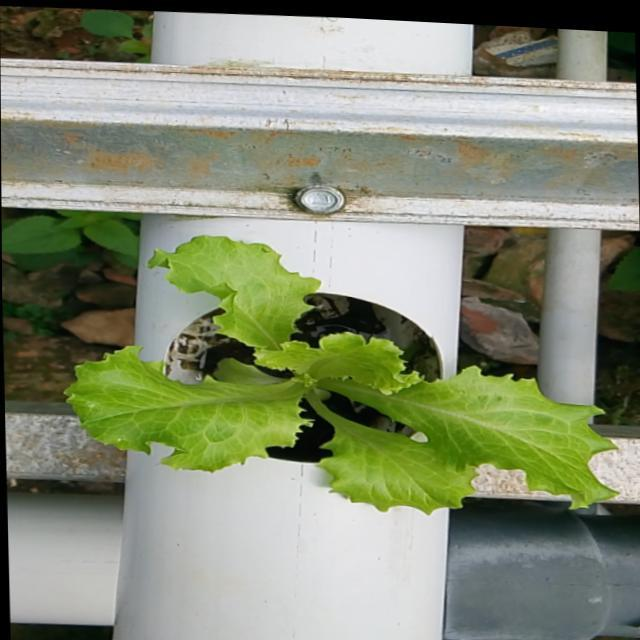Baby: (61, 231, 615, 508)
